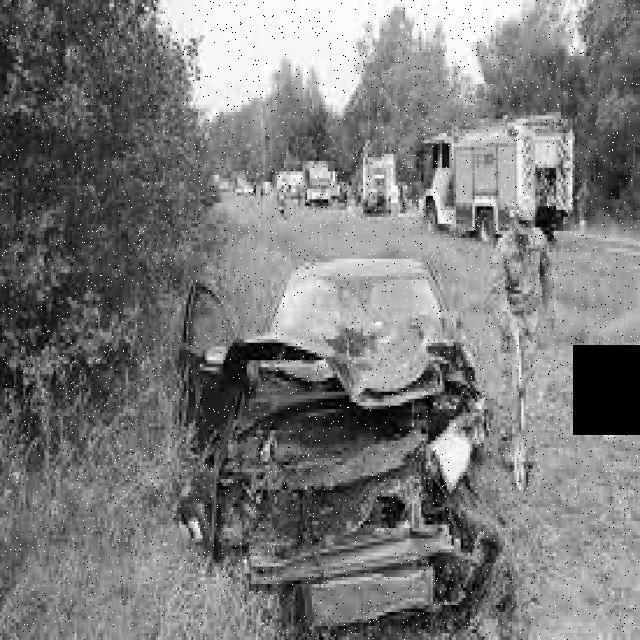accident: (177, 252, 505, 640)
vehicle: (410, 109, 580, 250), (352, 142, 415, 228), (269, 148, 341, 214)
